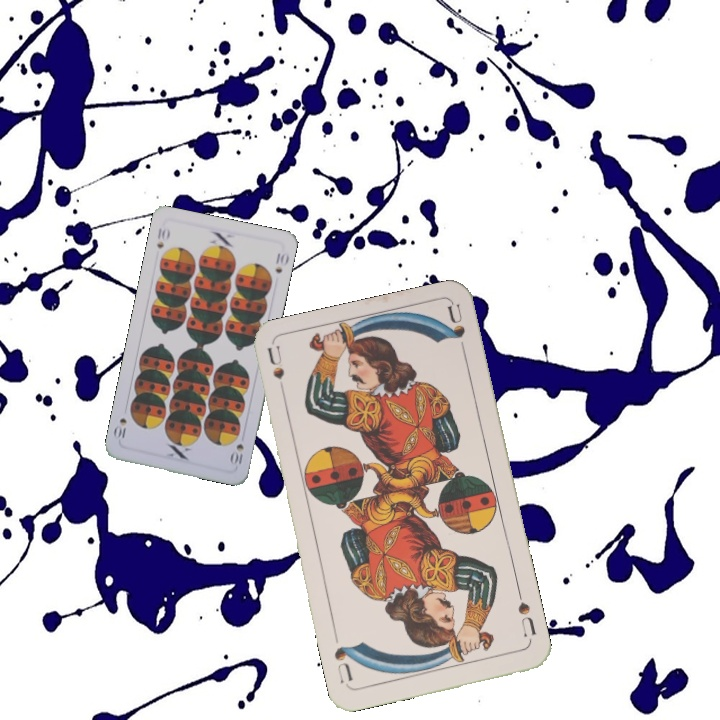S10: (227, 440, 246, 467), (153, 224, 172, 251)
SU: (513, 587, 539, 640), (263, 343, 287, 382)
